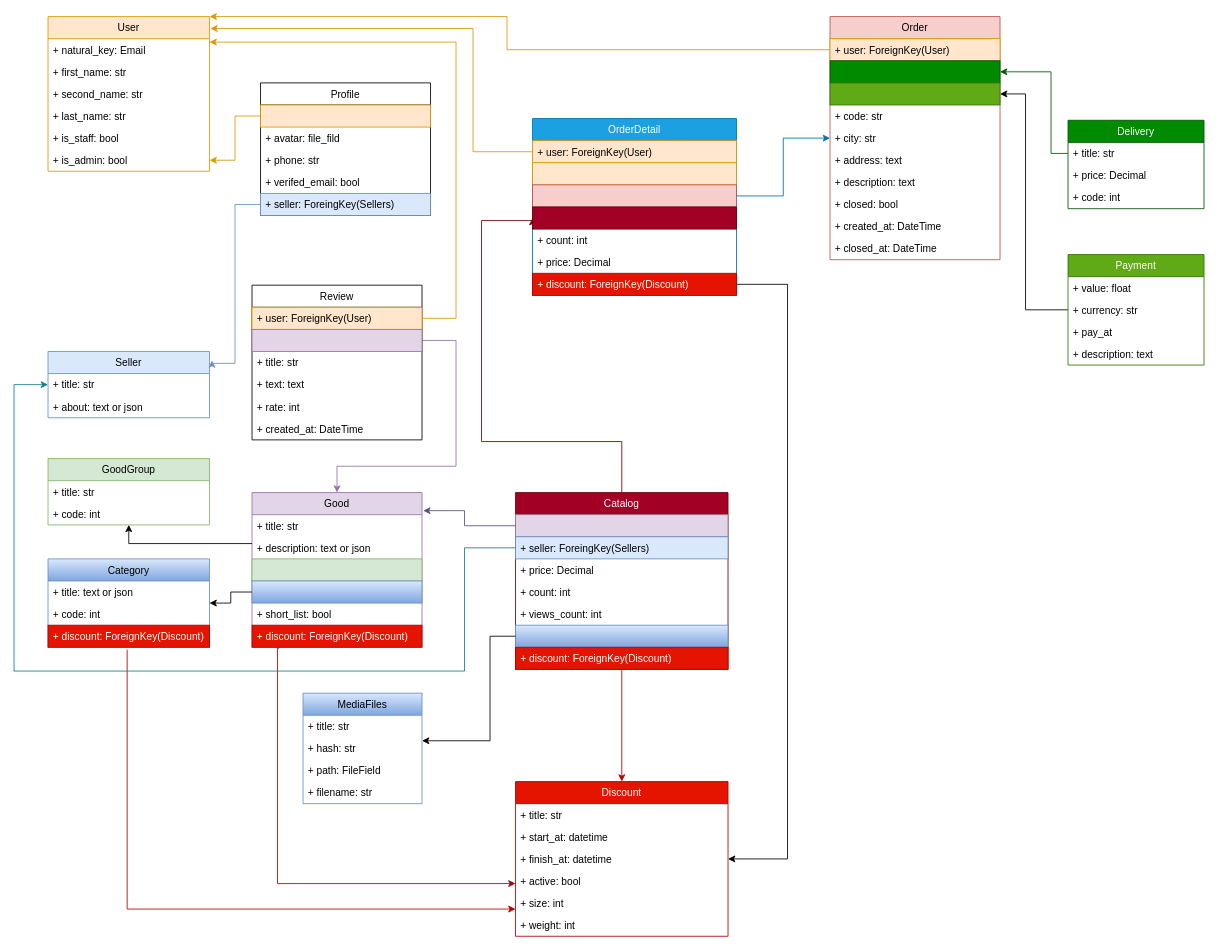
Some shapes in this 1218 by 950 pixel diagram are drawn without their labels. Each missing label, with the centre of its shape:
"+ delivery: ForeignKey(Delivery)" belongs at (x=914, y=71).
"+ files: ManyToMany(NediaFiles)" belongs at (x=621, y=635).
"+ good: ForeignKey(Catalog)" belongs at (x=634, y=217).
"+ good: ForeignKey(Good)" belongs at (x=336, y=340).
"+ goods: ForeingKey(Goods)" belongs at (x=621, y=525).
"+ group: ForeignKey(Catalog)" belongs at (x=336, y=569).
"+ order: ForeignKey(Order)" belongs at (x=634, y=195).
"+ payment: ForeignKey(payment)" belongs at (x=914, y=93).
"+ user: OneToOne(User)" belongs at (x=345, y=115).
"+categories: foreignkey(Categories)" belongs at (x=336, y=591).
"uuid: str" belongs at (x=634, y=173).
